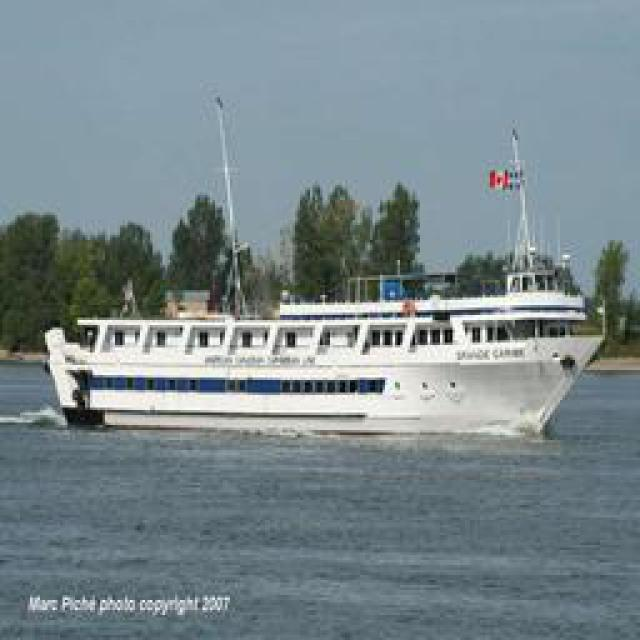Ship: (47, 217, 607, 440)
